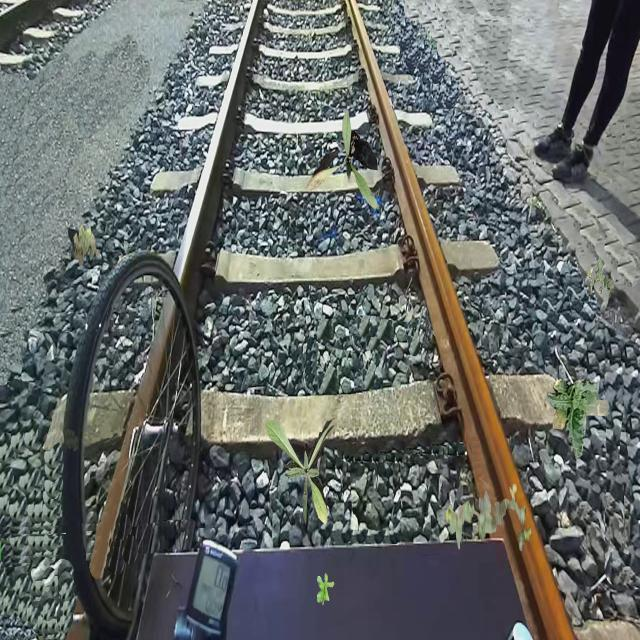Plant: (265, 418, 336, 526), (306, 110, 378, 210), (445, 483, 532, 552), (546, 379, 610, 462), (73, 223, 99, 266), (587, 257, 614, 298), (317, 573, 334, 605)
